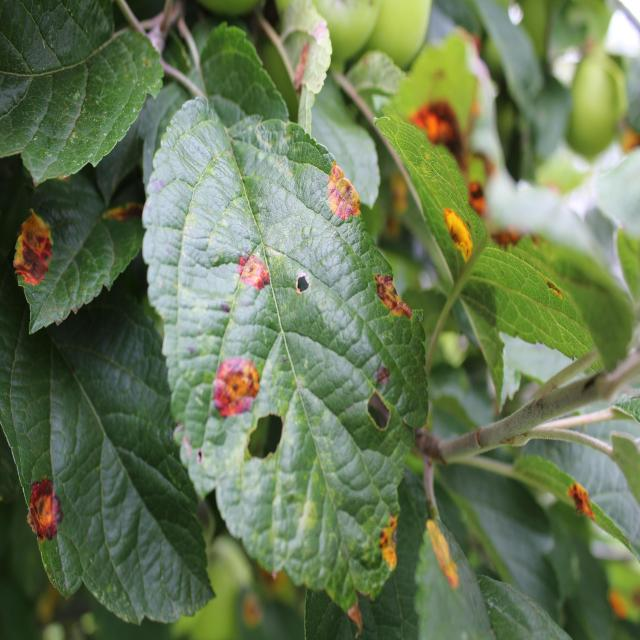Rust: (205, 345, 270, 431), (16, 476, 75, 564), (15, 200, 58, 306), (423, 501, 467, 604), (314, 145, 364, 234), (431, 203, 489, 274), (368, 512, 416, 580), (373, 258, 417, 327), (561, 472, 607, 526), (226, 245, 276, 293), (358, 356, 392, 390)
